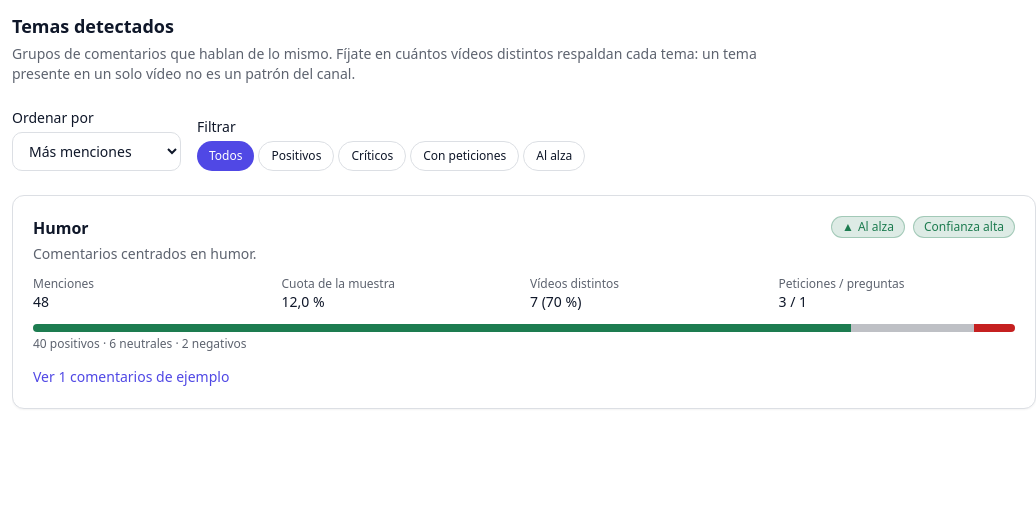
it: Pestaña Temas › permite desplegar los comentarios de ejemplo
The width and height of the screenshot is (1036, 518).
Expected: the text "Me río muchísimo con tus vídeos" is not shown
Click the button "Ver 1 comentarios de ejemplo".
click(131, 377)  # box [33,367,229,387]
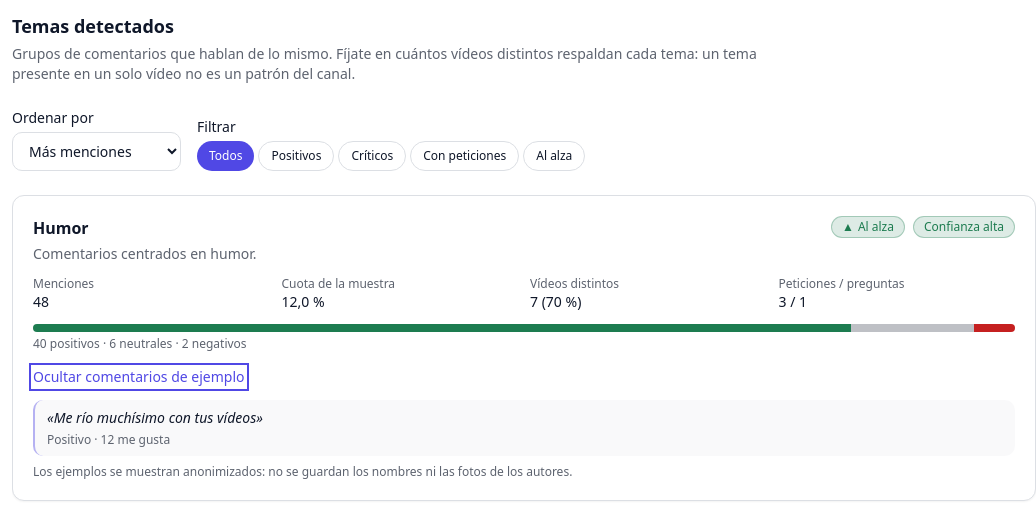
Expected: the text "«Me río muchísimo con tus vídeos»" is shown, [47,408,263,427]
